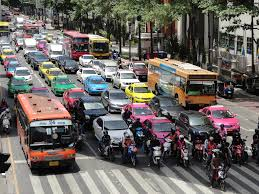nonacc: (14, 50, 223, 164)
